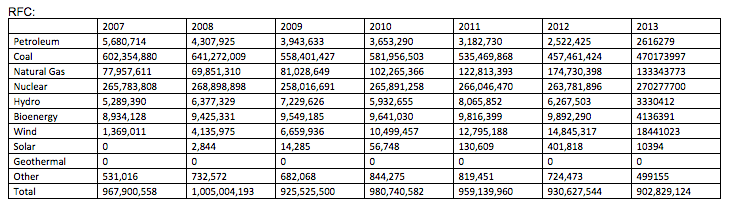fracking table: (8, 18, 722, 199)
